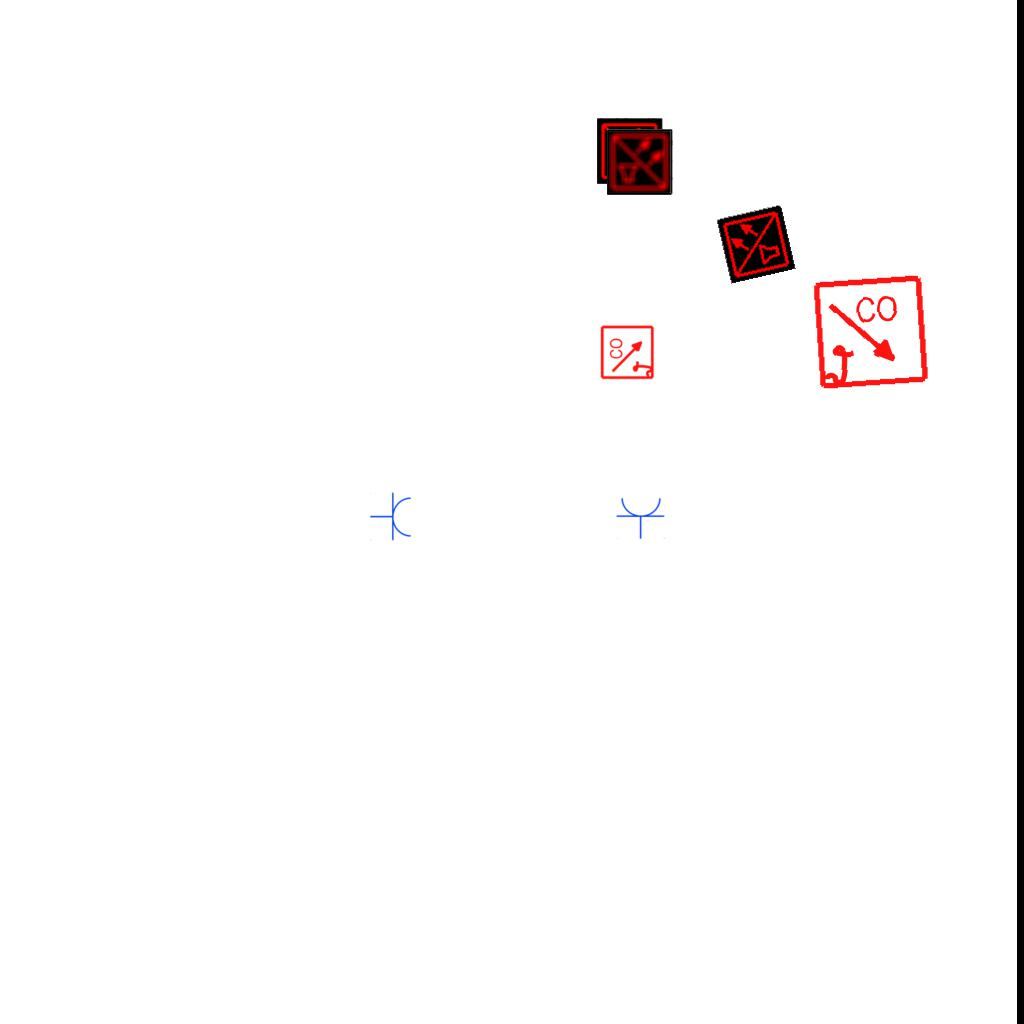OKW_Multisensormelder_(Kombination_optischer_Rauch-Kahlenmonoxid_Waerme-Melder): (716, 204, 796, 284), (597, 118, 663, 184), (607, 129, 673, 195)
ROA_Rauchmelder_optisch_mit_Signalgeber_(Sockelsirene): (811, 273, 932, 394), (600, 324, 656, 380)
Schukosteckdose_einfach: (370, 492, 413, 542), (616, 496, 666, 539)
